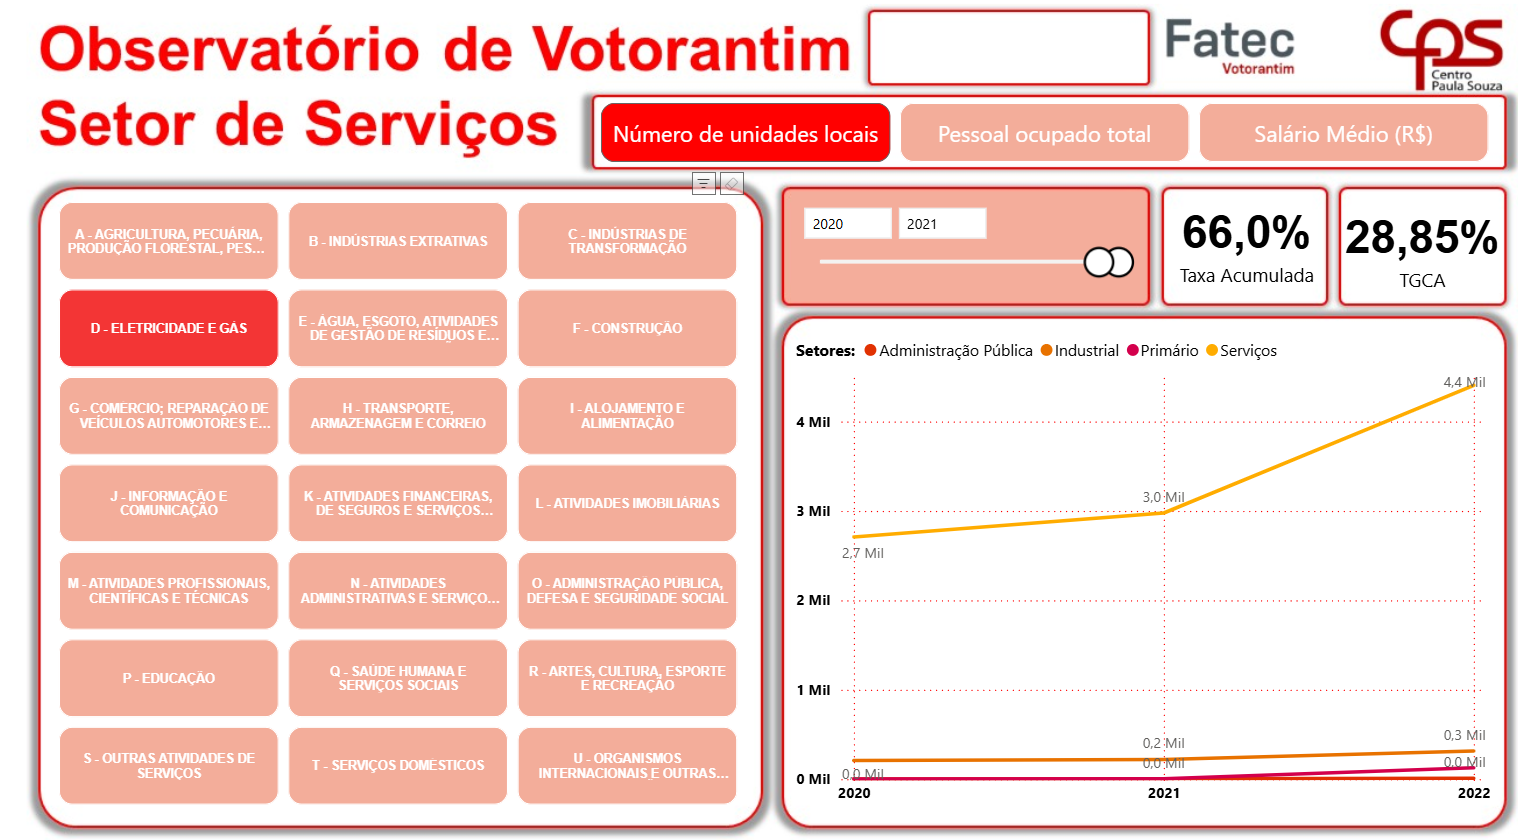

This screenshot's page, from the dashboard's own definition file:
{"tool":"powerbi","page":{"name":"Setores Histórico","canvas":[1280,720],"ordinal":3},"visuals":[{"type":"image","box":[0,0,1280,720],"z":0},{"type":"lineChart","fields":{"Y":["FiltroDados.Valor Selecionado"],"Series":["SidraServiços.Setor"],"Category":["SidraServiços.Ano"]},"box":[655,277.5,597.5,413.8],"z":1000},{"type":"slicer","fields":{"Values":["d_calendario.Ano"]},"box":[654.3,167.1,300,78.6],"z":2000},{"type":"advancedSlicerVisual","fields":{"Values":["FiltroDados.FiltroDados"]},"box":[490,83.8,762.5,60],"z":3000},{"type":"advancedSlicerVisual","fields":{"Values":["SidraServiços.Desc Sec"]},"box":[31.4,167.1,585.7,524.3],"z":5000},{"type":"card","fields":{"Values":["FiltroDados.Taxa Acumulada"]},"box":[968.6,159.1,145.4,95.3],"z":6000},{"type":"card","fields":{"Values":["FiltroDados.TGCA"]},"box":[1116.9,159.1,146.4,103.1],"z":7000}]}

Visuals, with their boxes in screenshot pixels (x1, y1, x2, y2), scaled from the page's 1280x720 canvas onto the 1518x840 screenshot:
image: (left=0, top=0, right=1517, bottom=839)
lineChart - FiltroDados.Valor Selecionado x SidraServiços.Setor: (left=777, top=324, right=1485, bottom=807)
slicer - d_calendario.Ano: (left=776, top=195, right=1132, bottom=287)
advancedSlicerVisual - FiltroDados.FiltroDados: (left=581, top=98, right=1485, bottom=168)
advancedSlicerVisual - SidraServiços.Desc Sec: (left=37, top=195, right=732, bottom=807)
card - FiltroDados.Taxa Acumulada: (left=1149, top=186, right=1321, bottom=297)
card - FiltroDados.TGCA: (left=1325, top=186, right=1498, bottom=306)
